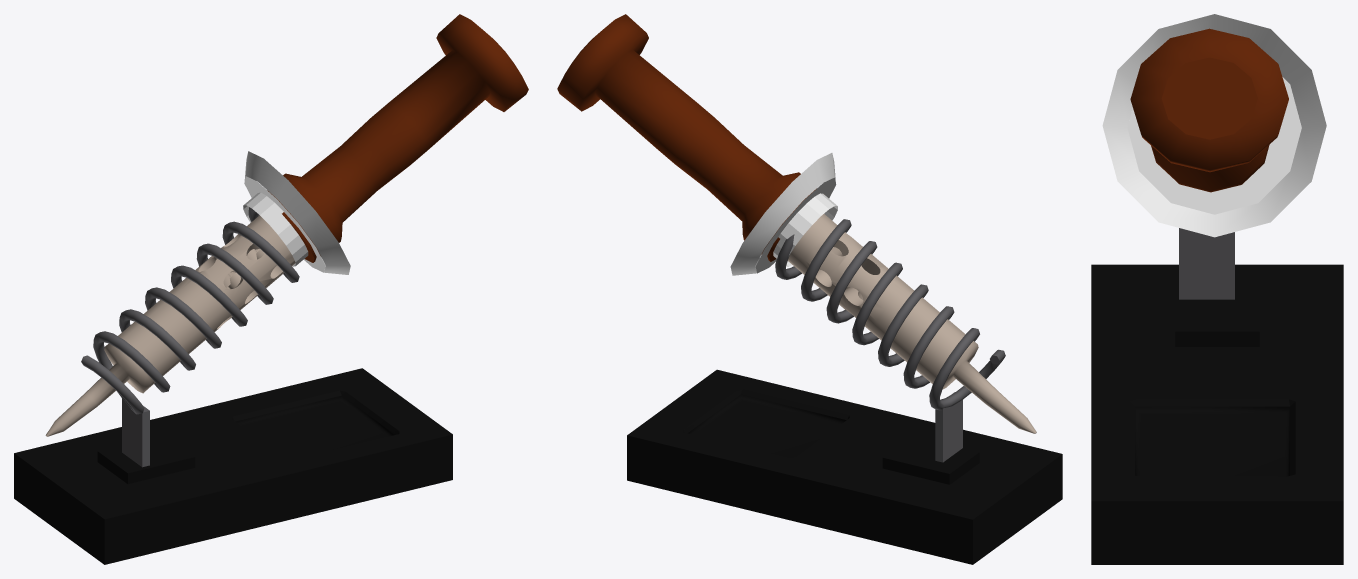
File: welding_gun.FBX
3 renders of one model, left to right at view 1: azimuth 30°, elevation 25°; view 2: azimuth 150°, elevation 25°; view 3: azimuth 270°, elevation 25°, orthographic. The views are drawn at different scales.
Visible parts, largest first — view 1: Box001, ChamferCyl001, ChamferCyl002, Spring001, ChamferCyl003; view 2: Box001, ChamferCyl001, ChamferCyl002, Spring001, ChamferCyl003; view 3: Box001, ChamferCyl001, ChamferCyl003, Spring001.
Part boxes in pixels (x1,y1,x2,y2): Box001: (14,368,452,564); ChamferCyl001: (267,14,528,262); ChamferCyl002: (45,215,295,436); Spring001: (81,207,299,467); ChamferCyl003: (243,151,350,274); Box001: (627,369,1062,564); ChamferCyl001: (557,14,816,261); ChamferCyl002: (788,214,1036,433); Spring001: (775,219,1005,462); ChamferCyl003: (730,153,837,275); Box001: (1091,264,1343,564); ChamferCyl001: (1130,28,1288,192); ChamferCyl003: (1102,14,1326,237); Spring001: (1179,228,1234,299).
Bounding box in the file's own units: 135 × 114 × 45.
